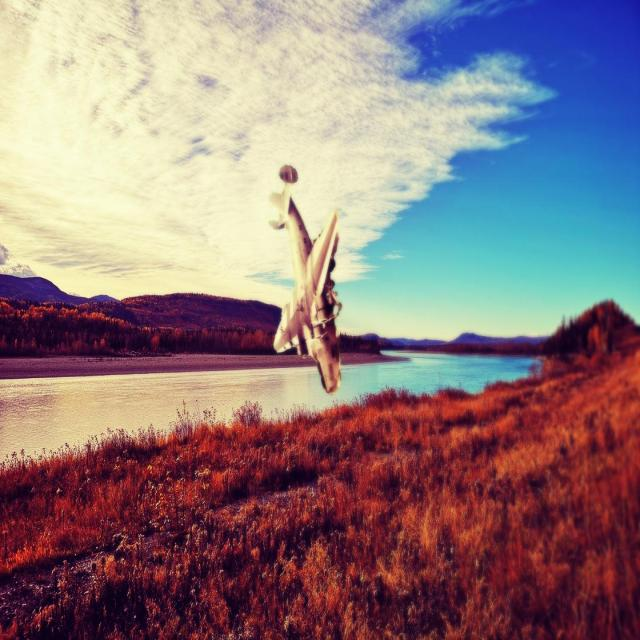airplane: (267, 164, 343, 394)
